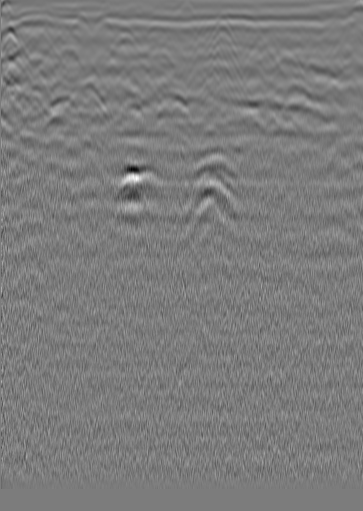가스: (114, 162, 153, 206)
상수: (300, 57, 320, 77)
오수: (16, 42, 36, 62)
우수: (186, 58, 206, 78)
